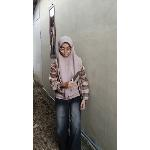Pisau: (68, 70, 84, 86)
